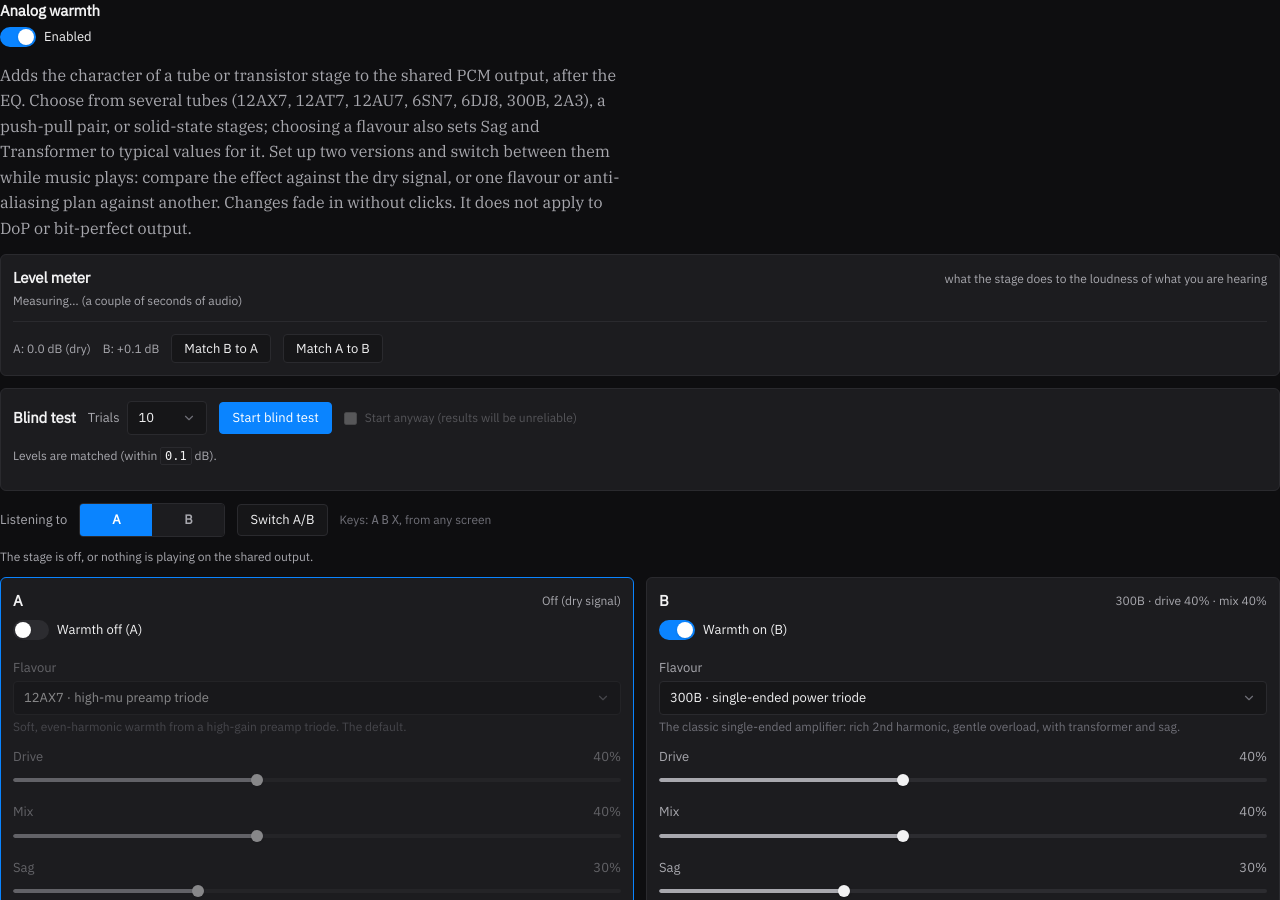
Test case: Analog warmth: blind test › hides everything that would give X away while it runs
Step 1. Click the button with test id "blind-start-button" → (276, 418), box [220,402,332,434]
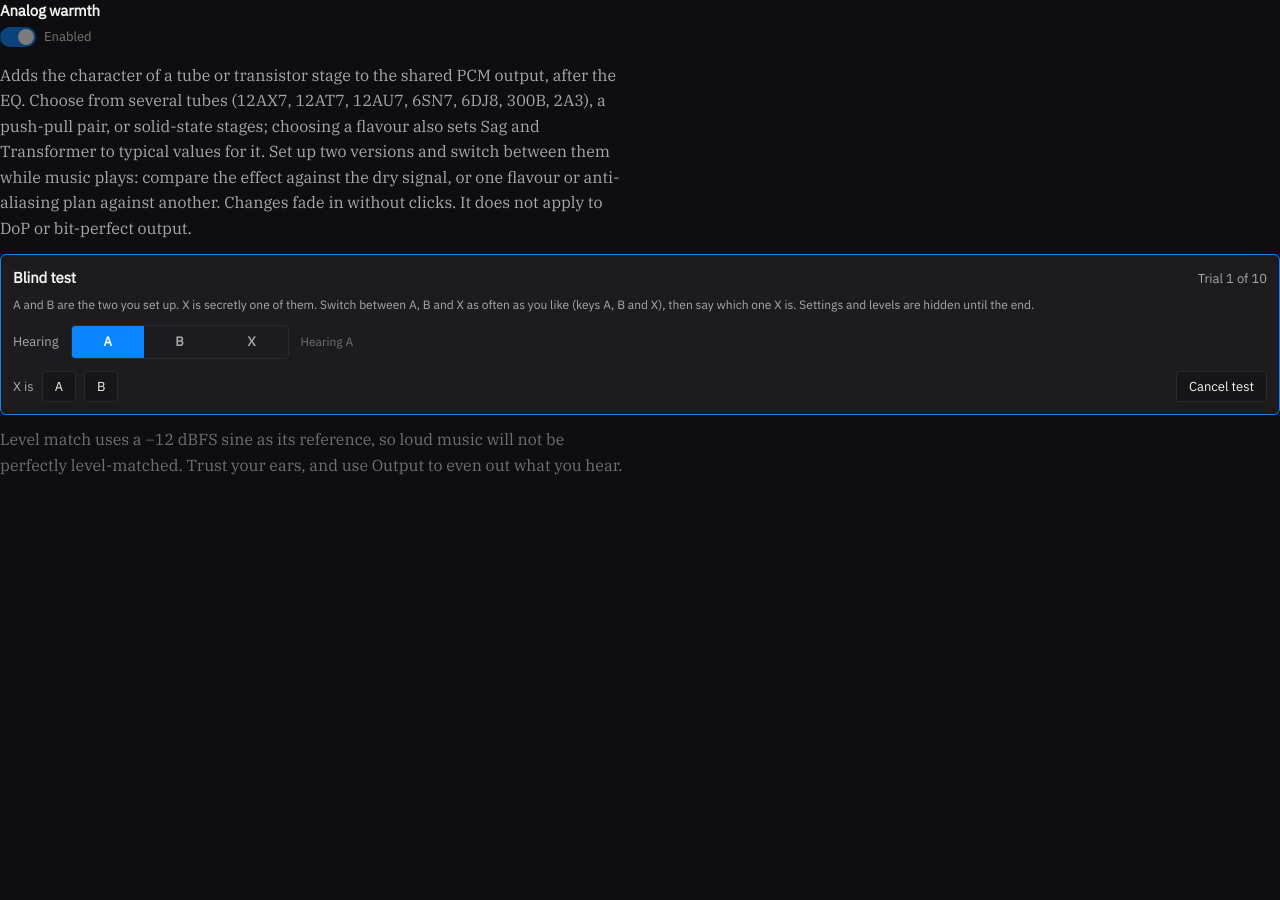
Now the element with test id "blind-test" shows "Trial 1 of 10", box [1198,270,1267,287]
